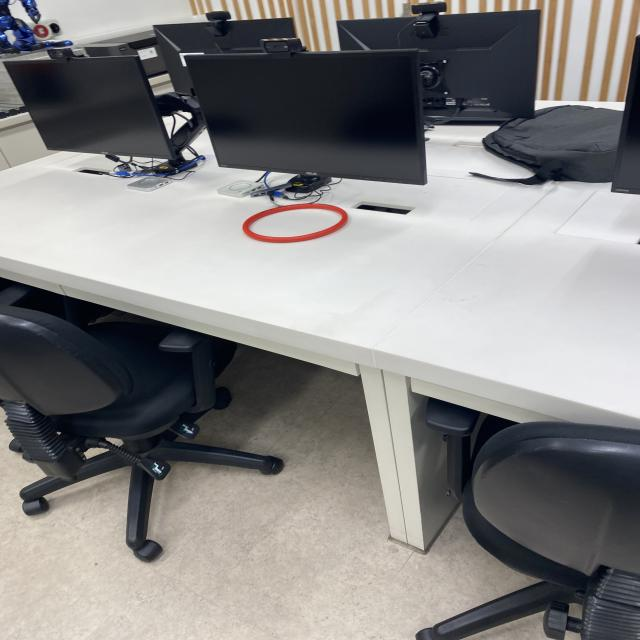daire: (243, 203, 350, 245)
